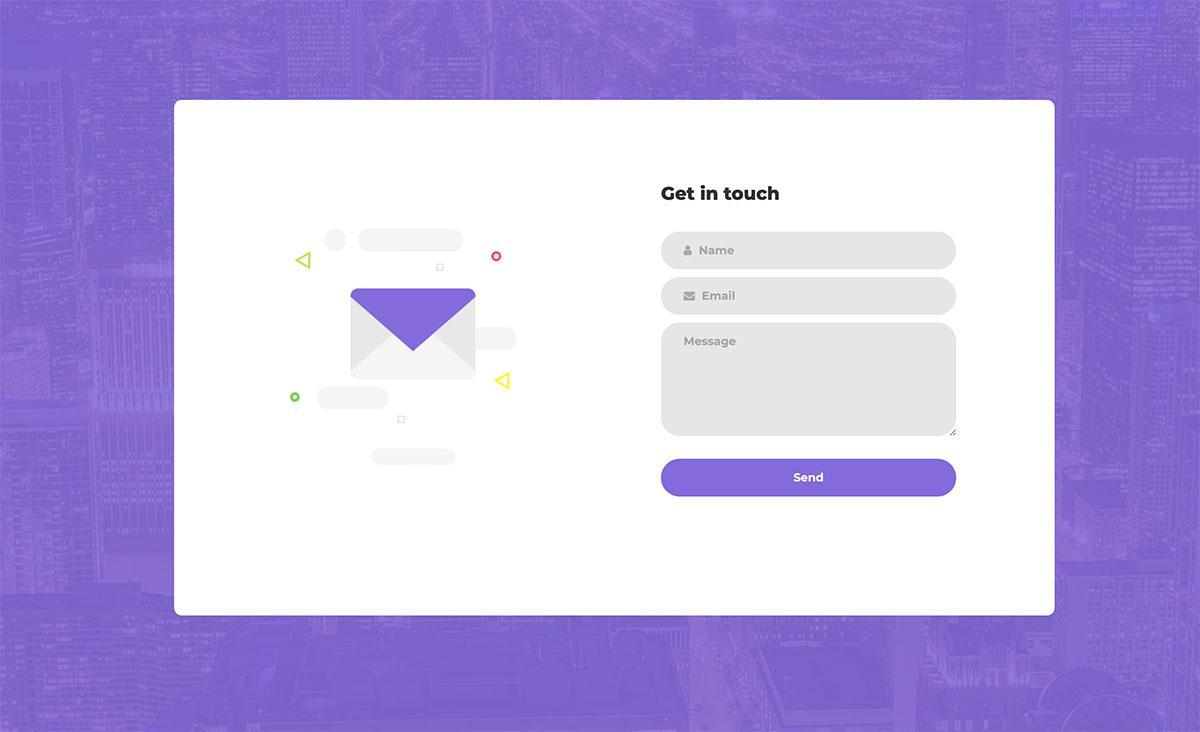button: (661, 459, 958, 498)
icon: (681, 243, 699, 263), (683, 285, 698, 306)
input: (663, 277, 958, 319), (662, 231, 956, 271)
label: (651, 180, 789, 210)
